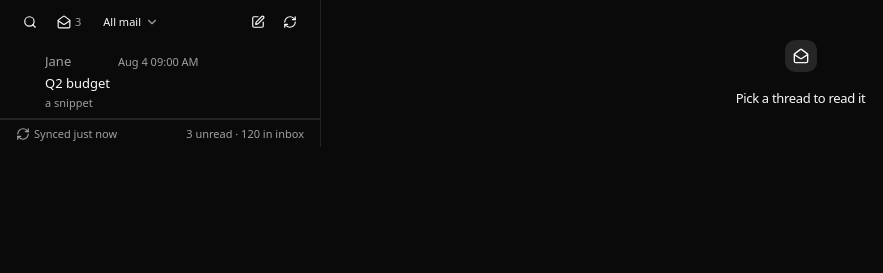
Test: names the fields a message actually has, and no others
Click the button "Jane Q2 budget a snippet Aug 4 09:00 AM" at (78, 83), box [22, 44, 320, 118]
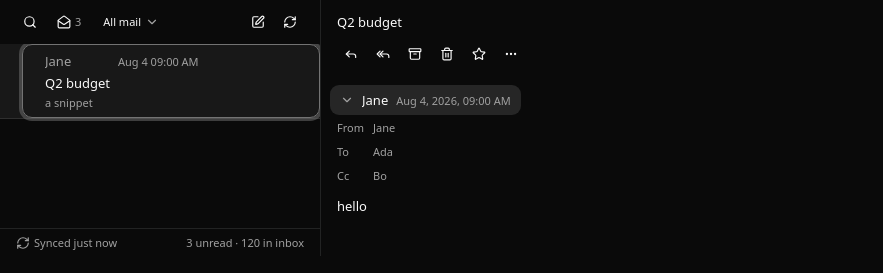
Expected: the text "To" is shown, [337, 144, 349, 159]
Expected: the text "From" is shown, [337, 120, 364, 136]
Expected: the text "Cc" is shown, [337, 168, 349, 183]
